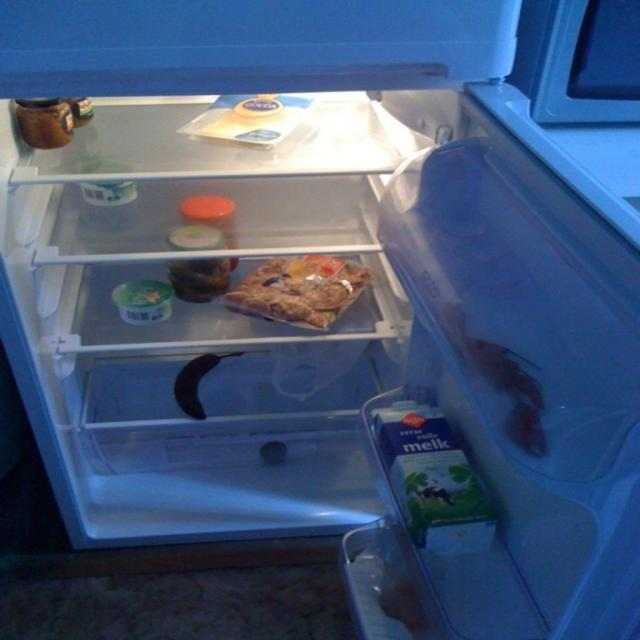refrigerator: (12, 16, 596, 636)
